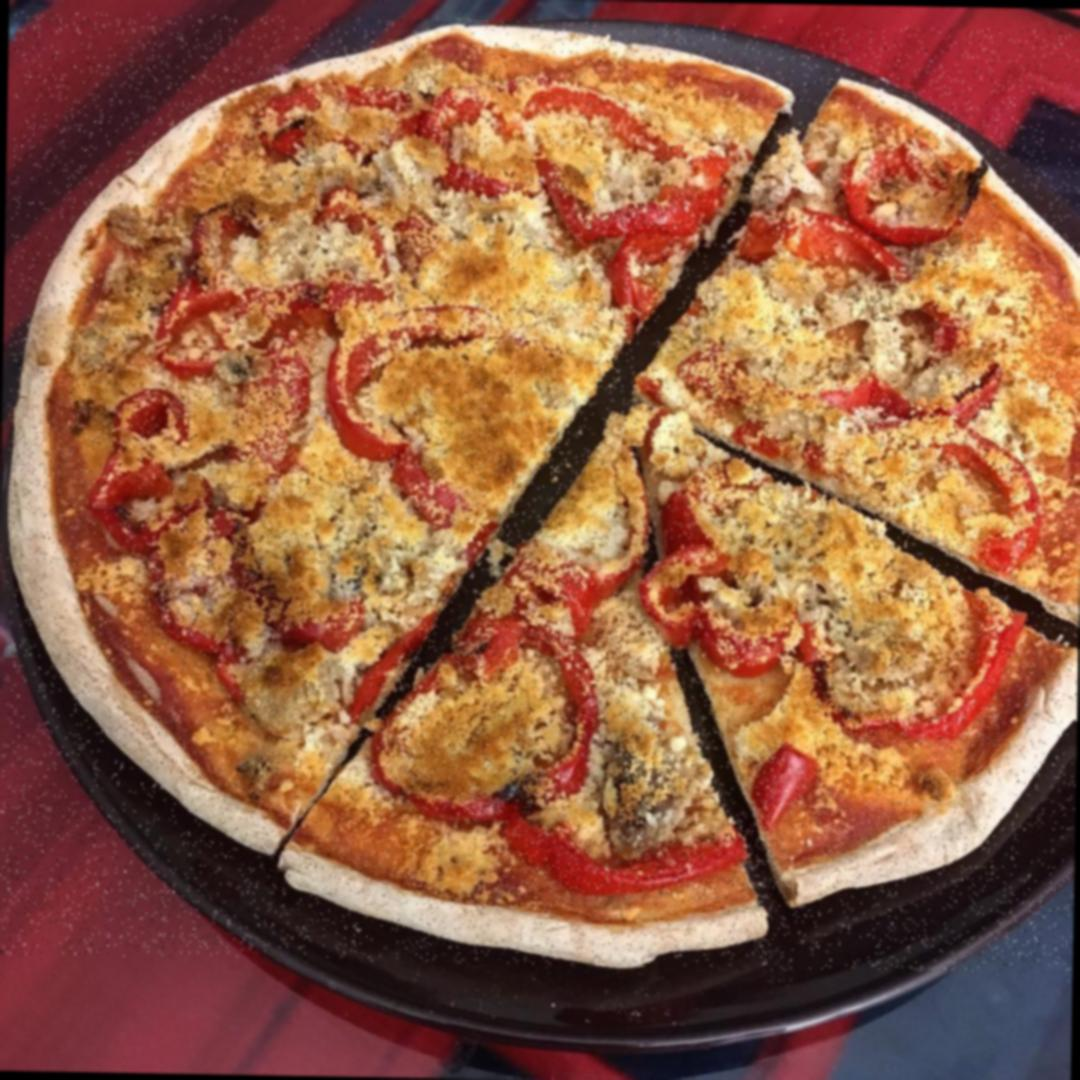Peppers: (368, 624, 606, 834), (498, 811, 760, 904), (636, 541, 798, 680), (97, 388, 190, 558), (843, 142, 981, 243), (518, 88, 685, 161), (750, 209, 912, 281), (234, 341, 312, 476), (322, 316, 392, 466), (144, 558, 237, 657), (824, 378, 1016, 425), (872, 428, 1038, 480), (830, 703, 1002, 750), (953, 592, 1023, 706), (387, 432, 457, 528), (236, 273, 392, 316), (974, 478, 1042, 574), (391, 298, 500, 356), (752, 744, 822, 834), (274, 595, 370, 660), (607, 238, 667, 336), (153, 282, 238, 351), (532, 162, 596, 243), (188, 198, 260, 267), (256, 92, 328, 156), (433, 151, 512, 202), (425, 82, 481, 150), (594, 206, 704, 239), (908, 298, 963, 364), (386, 206, 437, 276), (317, 186, 377, 236), (342, 76, 415, 114), (658, 180, 730, 208), (152, 351, 222, 379)
Pizza: (0, 12, 1080, 974)
